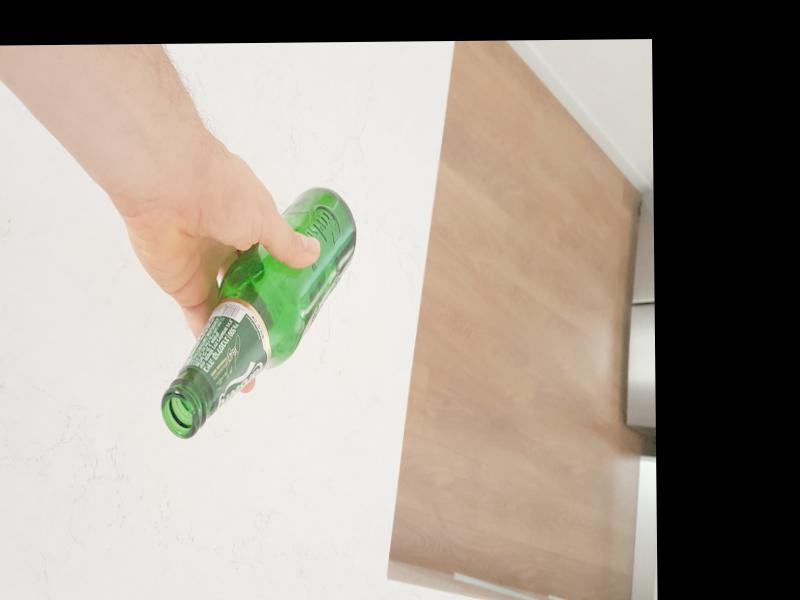Beer: (155, 189, 357, 441)
